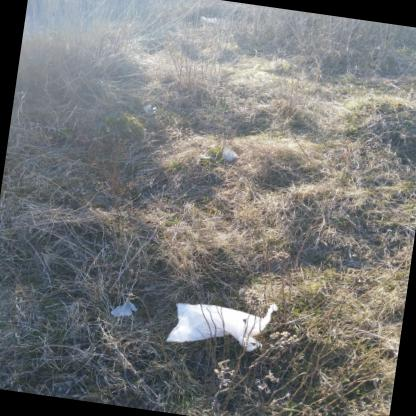Plastic: (166, 303, 277, 351), (110, 298, 136, 317), (220, 142, 237, 161), (142, 104, 158, 113)
Waste: (202, 17, 222, 22)
